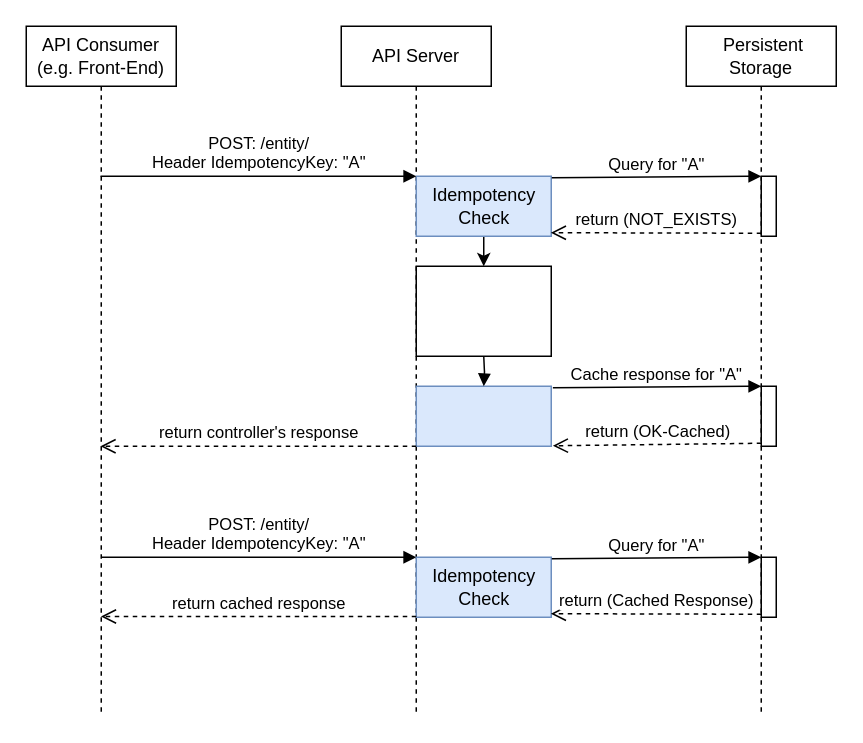
Image size: 863x743. Some labels were removed from this diagram. The centre of each missing label's shape, as x and y in pixels:
"Controller Execution (POST: /entity/)" belongs at pixel 483 310.
"Idempotency Cache" belongs at pixel 483 415.
